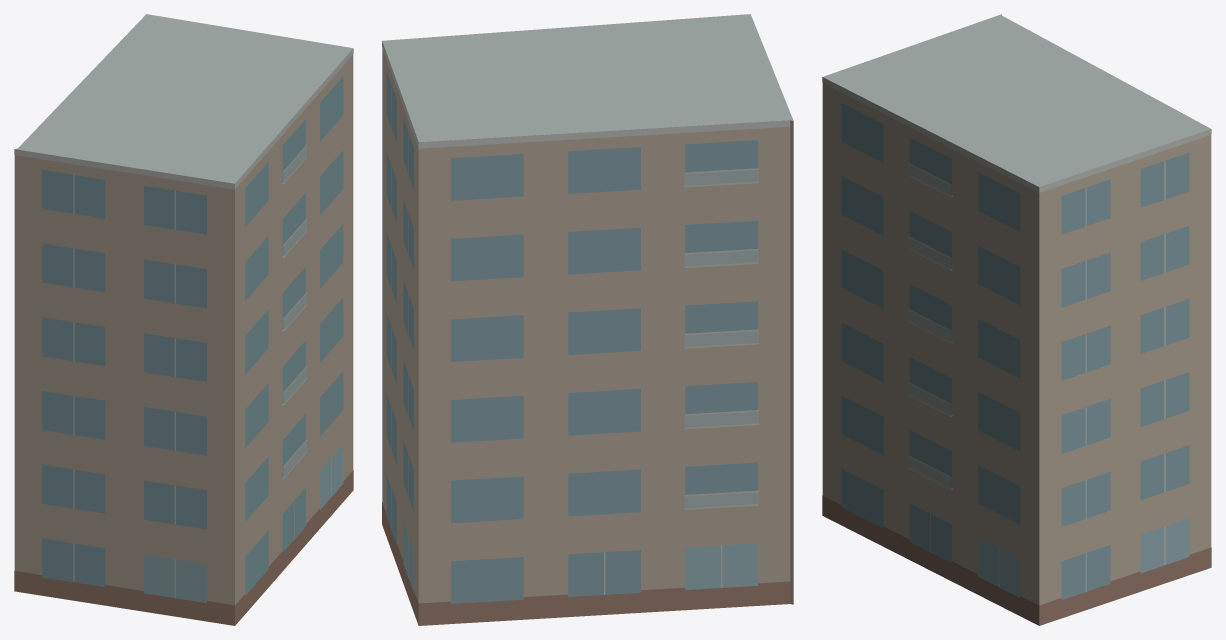
The model's file is survey-upis-32829760.glb.
The picture shows the model from 3 angles, left to right: view 1: azimuth 30°, elevation 25°; view 2: azimuth 150°, elevation 25°; view 3: azimuth 270°, elevation 25°; orthographic projection. The views are drawn at different scales.
Visible parts, largest first — view 1: survey-upis-32829760.tmp; view 2: survey-upis-32829760.tmp; view 3: survey-upis-32829760.tmp.
Part boxes in pixels (x1,y1,x2,y2): survey-upis-32829760.tmp: [14, 14, 353, 625]; survey-upis-32829760.tmp: [382, 14, 793, 625]; survey-upis-32829760.tmp: [822, 14, 1211, 625].
Size of the model in its own units: 15.58 by 18.4 by 14.79.
